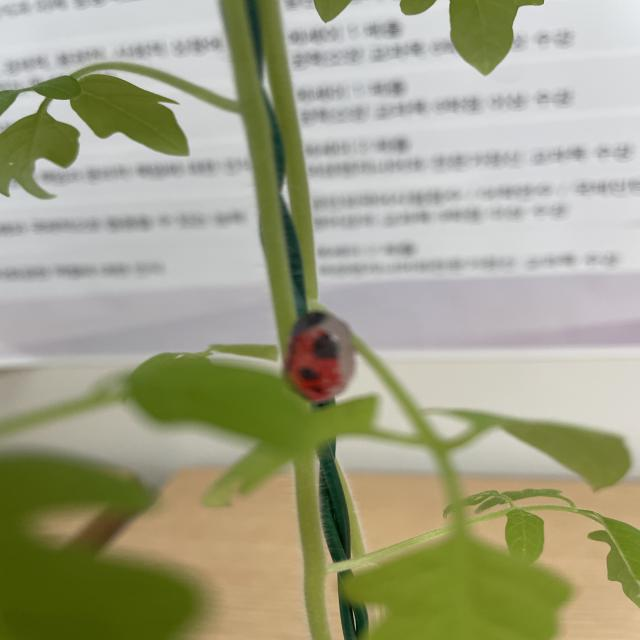bug: (246, 297, 368, 407)
